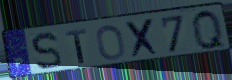7: (160, 13, 187, 55)
O: (95, 24, 127, 62)
Q: (190, 8, 229, 51)
S: (30, 31, 64, 72)
T: (64, 28, 88, 65)
X: (124, 17, 161, 60)
